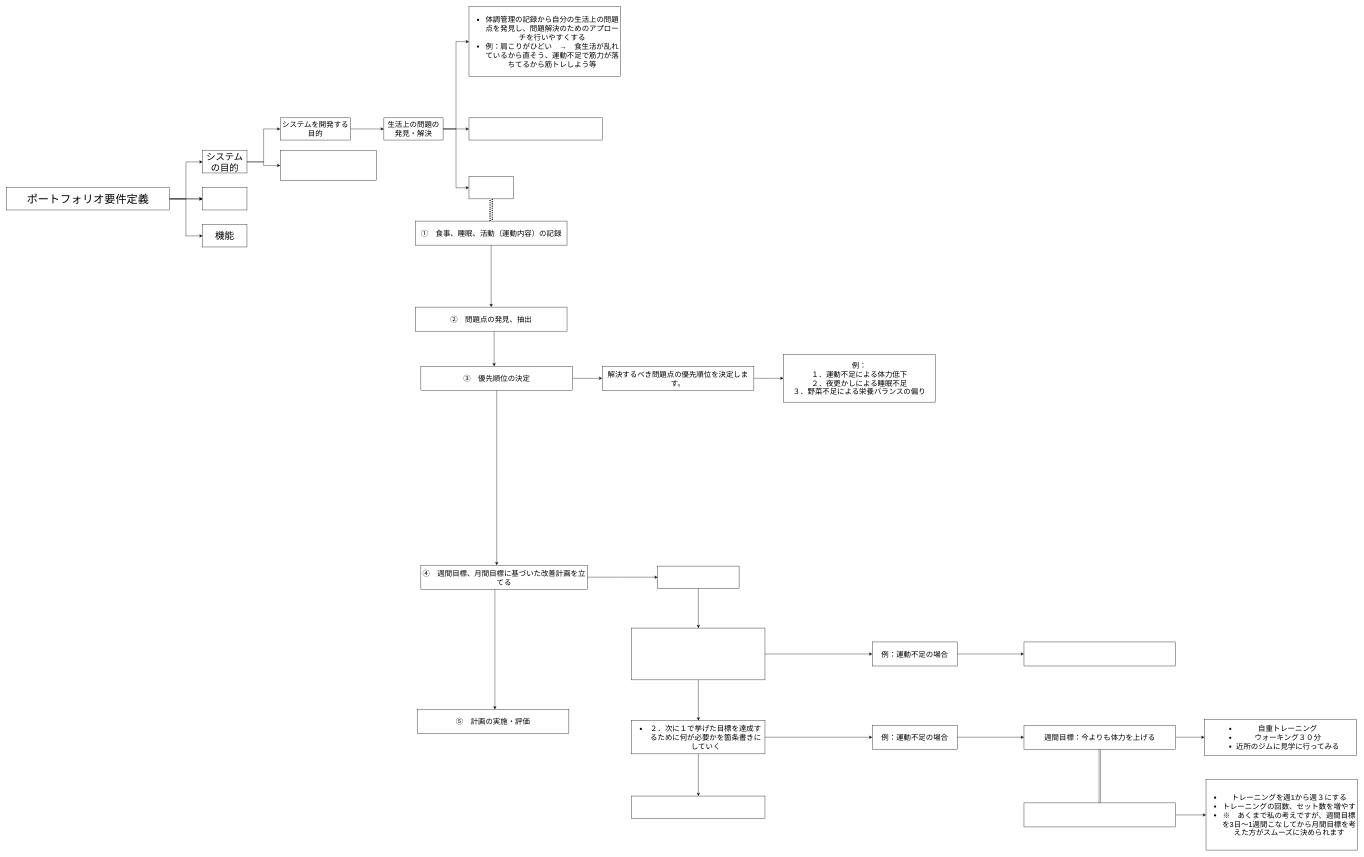
This 1364x857 diagram has some shape labels left out. Here are the shapes that lost their labels. From the top down, the centre of each, then its label:
pixel 535 128: 自分にどのような問題があるのか気付くことができる
pixel 328 165: システムを利用することで何が可能になるか
pixel 224 198: 対象
pixel 491 187: フロー
pixel 698 577: 計画作成の流れ
pixel 698 654: １．まず上記で挙げた問題点に対して大まかな目標を立てる。この場合1週間で達成できそうなこと、1か月で達成できそうなことを基準に考える
pixel 1100 654: 週間目標：今よりも体力を上げる 月間目標：筋肉をつけていく
pixel 698 807: ３．達成できたら実施評価へ
pixel 1100 815: 月間目標：筋肉をつけていく
